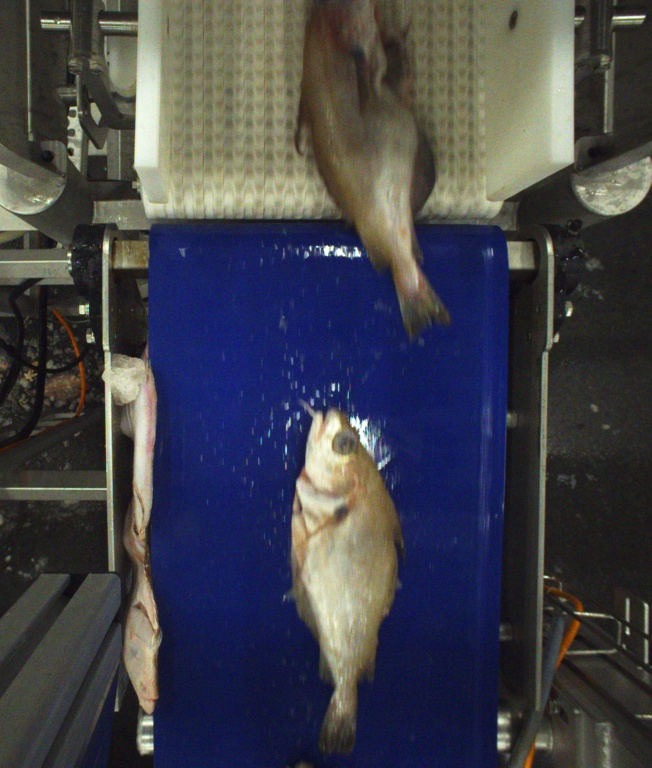BIB: (299, 4, 455, 339)
